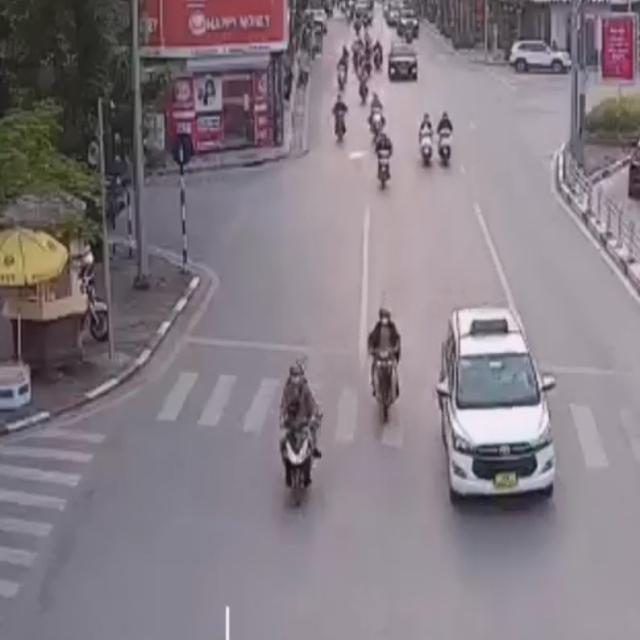car: (434, 299, 558, 510)
motorbike: (274, 362, 324, 510), (364, 302, 404, 428), (373, 129, 395, 192), (414, 110, 436, 170), (435, 108, 455, 168)
